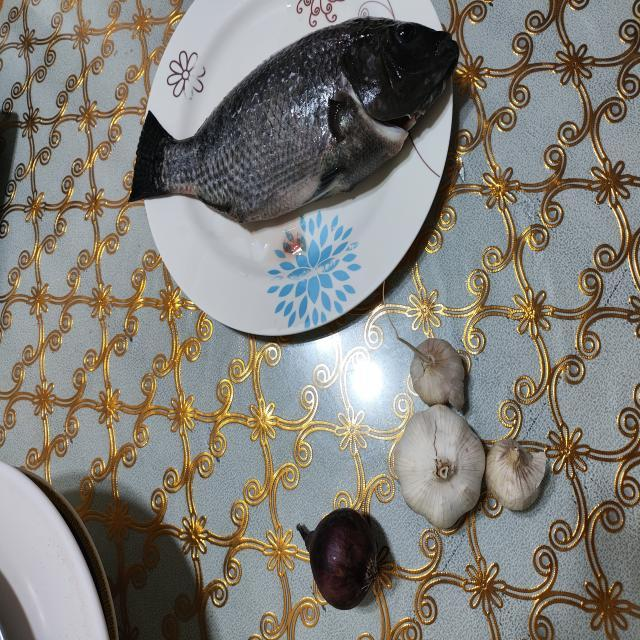fish: (132, 17, 456, 229)
garlic: (403, 332, 549, 531)
onion: (296, 511, 379, 610)
